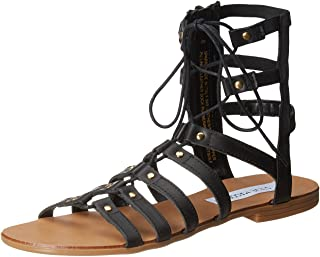shoes: (1, 1, 320, 255)
